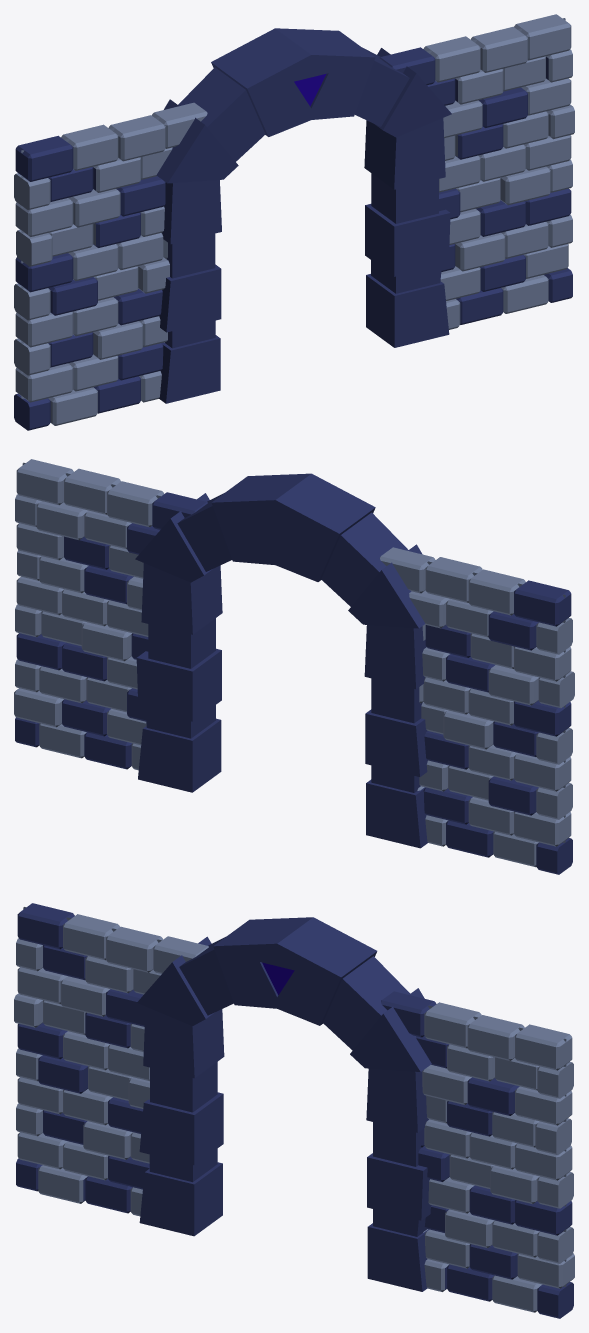
The model's file is blue_door.fbx.
3 views of the same model, one above another, from view 1: azimuth 30°, elevation 25°; view 2: azimuth 150°, elevation 25°; view 3: azimuth 330°, elevation 25° (orthographic).
Parts seen in each view (by area): view 1: brick wall with bars.001; view 2: brick wall with bars.001; view 3: brick wall with bars.001.
Part boxes in pixels (bbox=[...]): brick wall with bars.001: bbox=[14, 14, 574, 430]; brick wall with bars.001: bbox=[14, 459, 574, 874]; brick wall with bars.001: bbox=[14, 903, 574, 1318].
Bounding box in the file's own units: 632 × 354 × 73.09.
